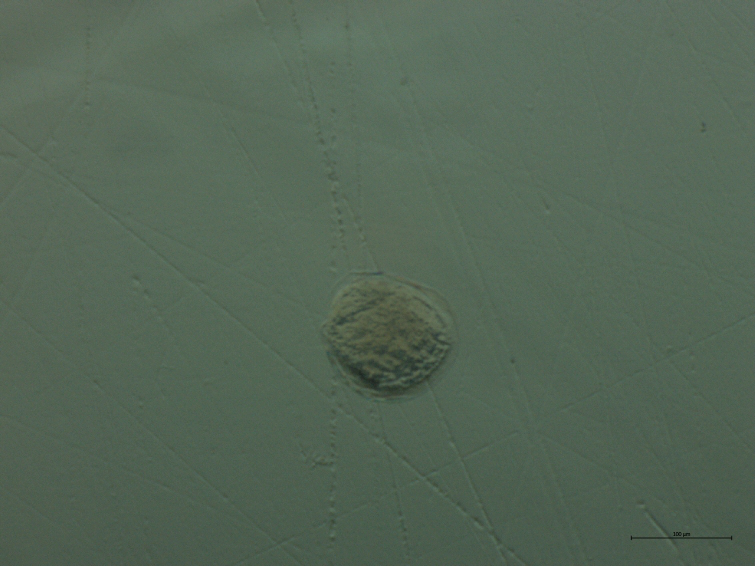oyster: (302, 259, 479, 408)
